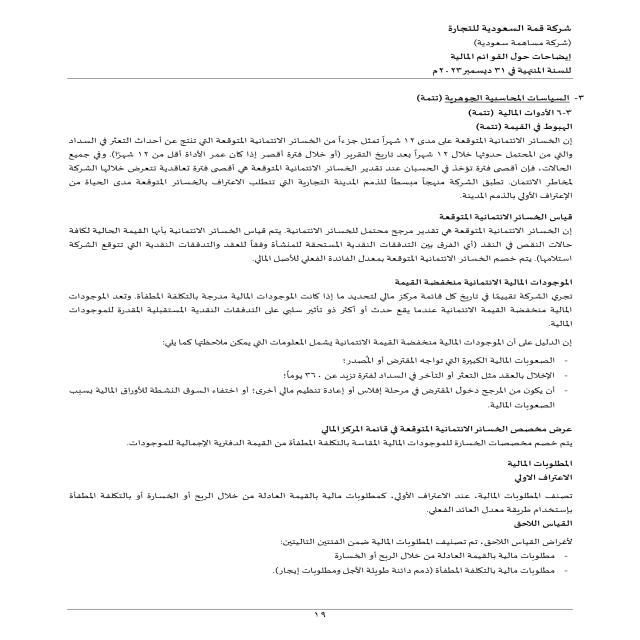notes: (434, 50, 572, 66)
text: (43, 85, 602, 596)
